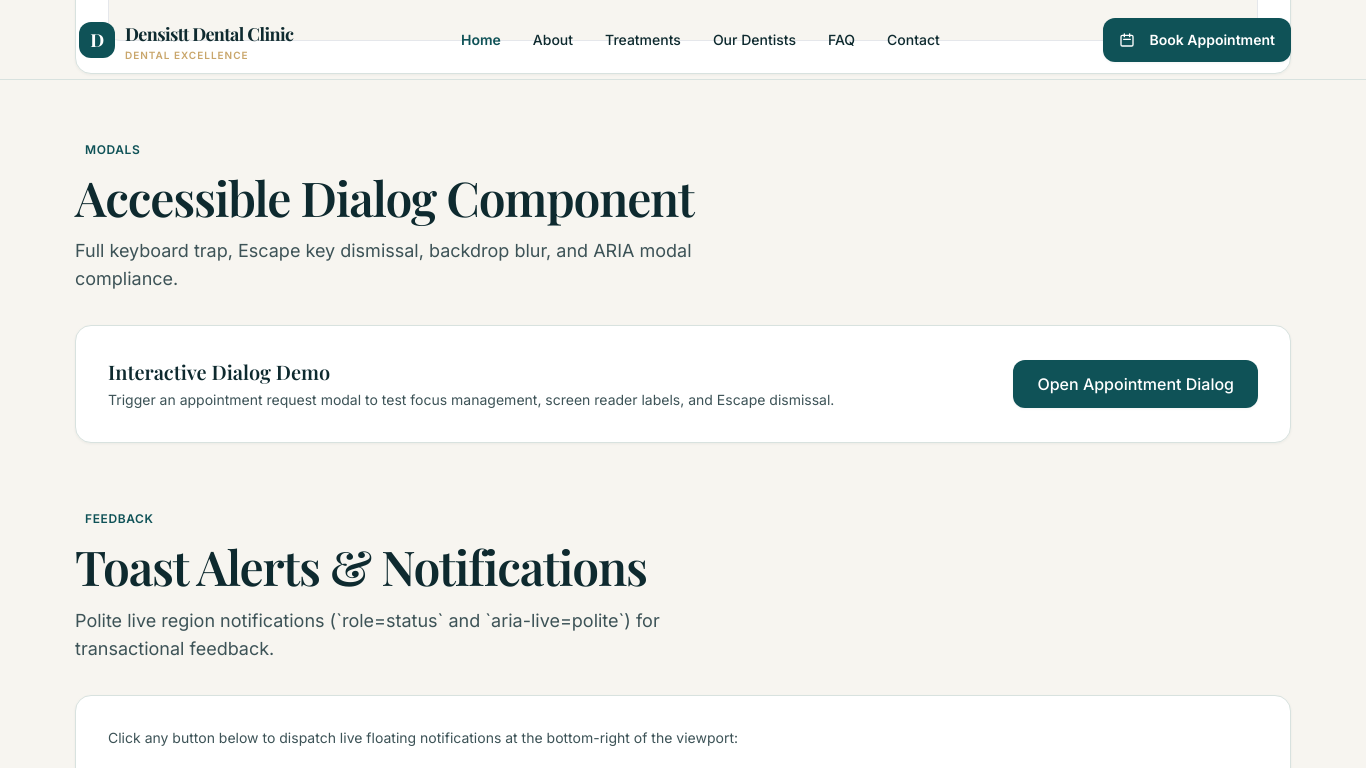
Scenario: Styleguide and Design System Components › opens and closes the appointment dialog with accessible role and labels
(page scrolled)
Click the button "Open Appointment Dialog" at (1136, 384), box 1013,360 -> 1258,408
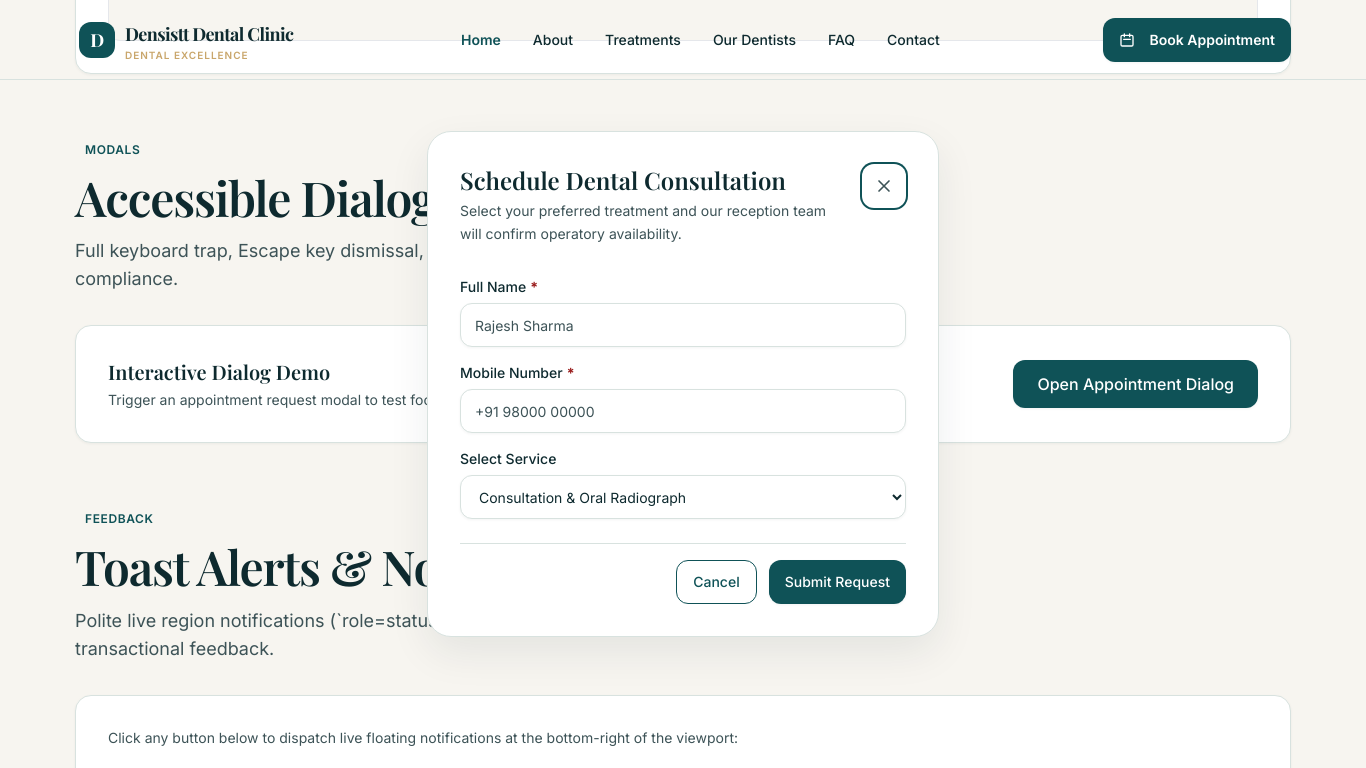
Now the dialog is shown, box 427,131 -> 939,637
Close via Close dialog button
Click the button named "Close dialog" at (884, 186), box 862,164 -> 906,208
(page scrolled)
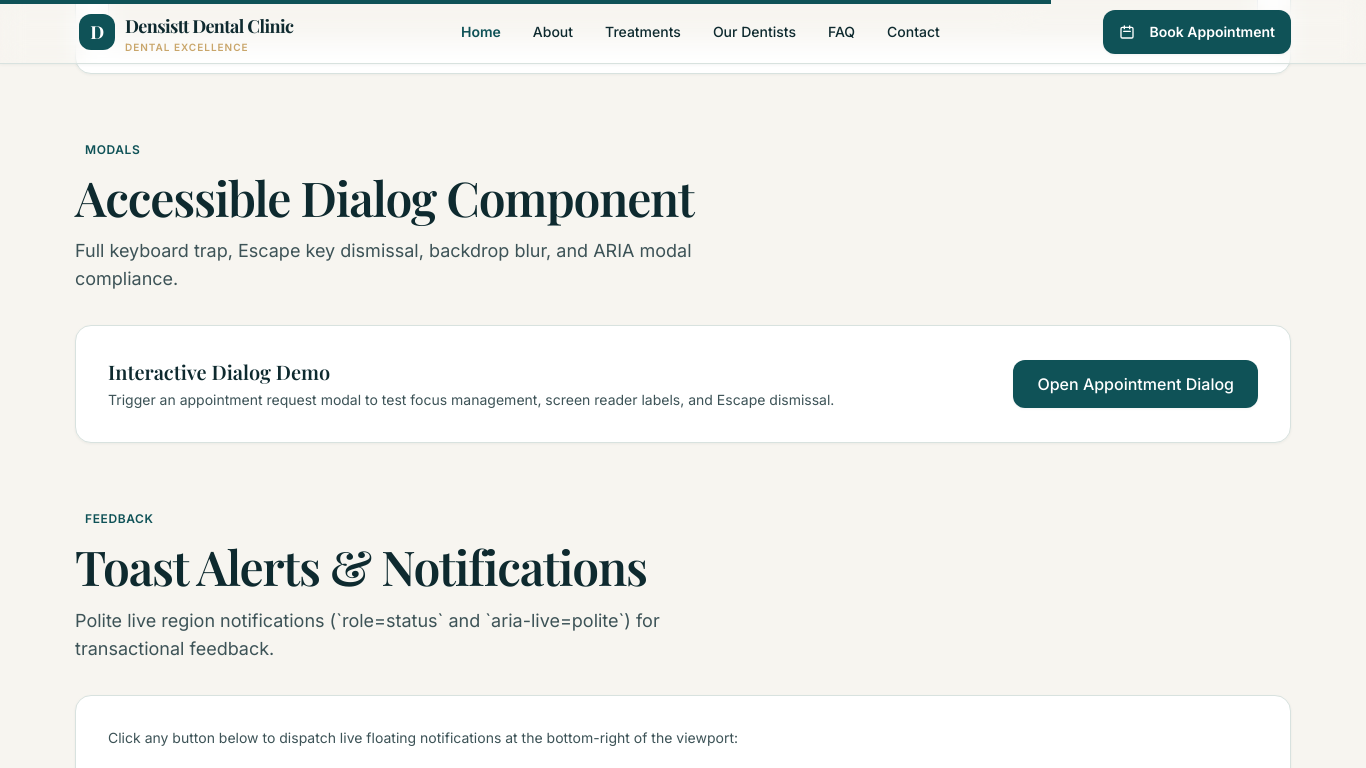
Now the dialog is gone
